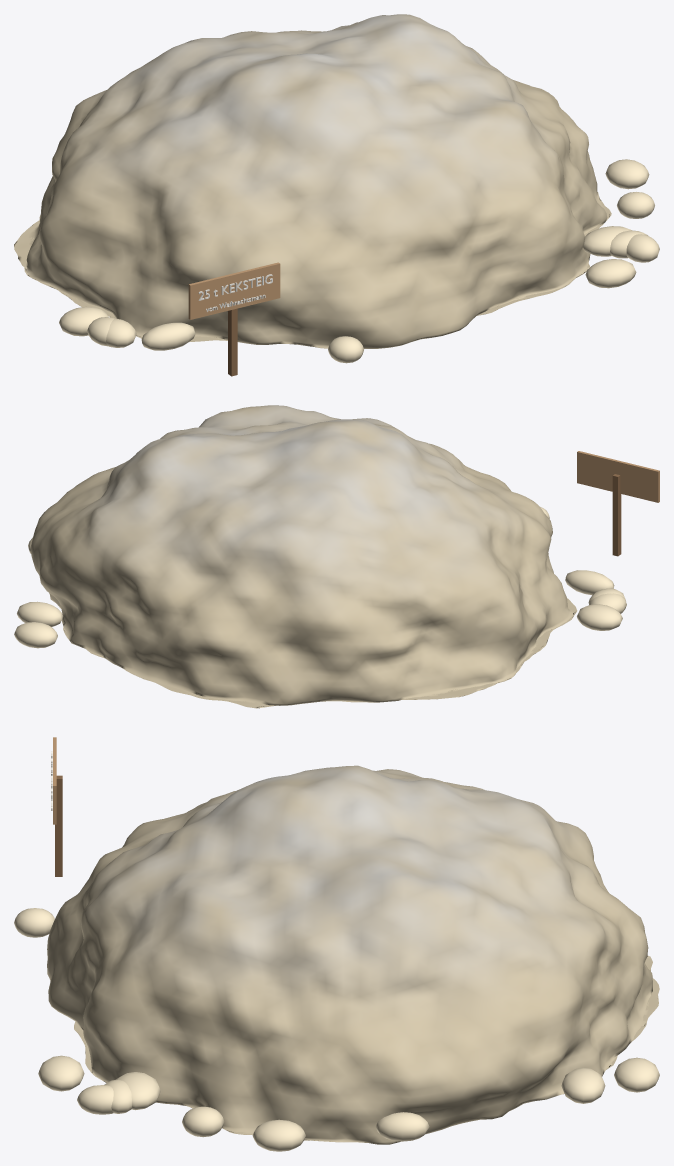
File: mountain.glb
3 renders of one model, top to bottom at view 1: azimuth 30°, elevation 25°; view 2: azimuth 150°, elevation 25°; view 3: azimuth 270°, elevation 25°, orthographic. The views are drawn at different scales.
Parts seen in each view (by area): view 1: Mountain, Chunks, MountainSign; view 2: Mountain, Chunks, MountainSign; view 3: Mountain, Chunks, MountainSign.
Part boxes in pixels (x1=…): Mountain: x1=14, y1=14, x2=611, y2=348; Chunks: x1=59, y1=159, x2=659, y2=363; MountainSign: x1=188, y1=262, x2=280, y2=376; Mountain: x1=31, y1=405, x2=577, y2=708; Chunks: x1=14, y1=507, x2=626, y2=648; MountainSign: x1=577, y1=451, x2=659, y2=556; Mountain: x1=47, y1=765, x2=659, y2=1144; Chunks: x1=14, y1=908, x2=659, y2=1151; MountainSign: x1=51, y1=737, x2=62, y2=876.
Bounding box in the file's own units: 10.02 × 2.91 × 8.37.
